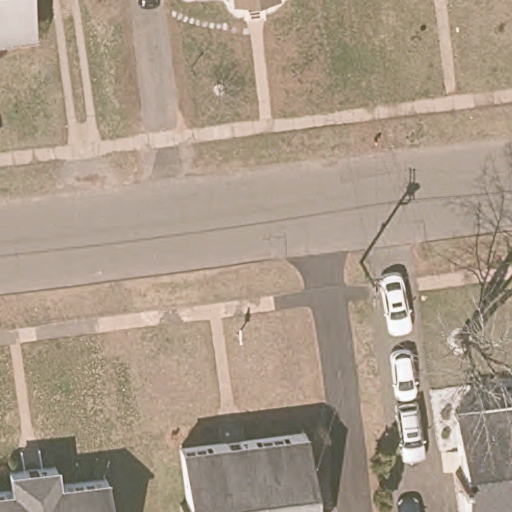DT: (359, 260, 389, 309)
